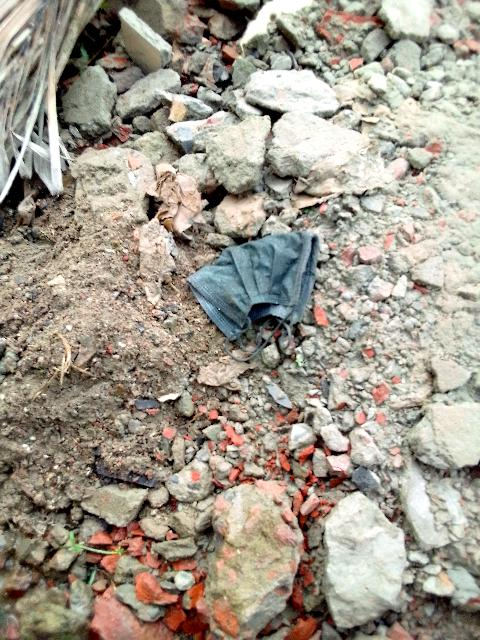mask: (180, 233, 331, 333)
